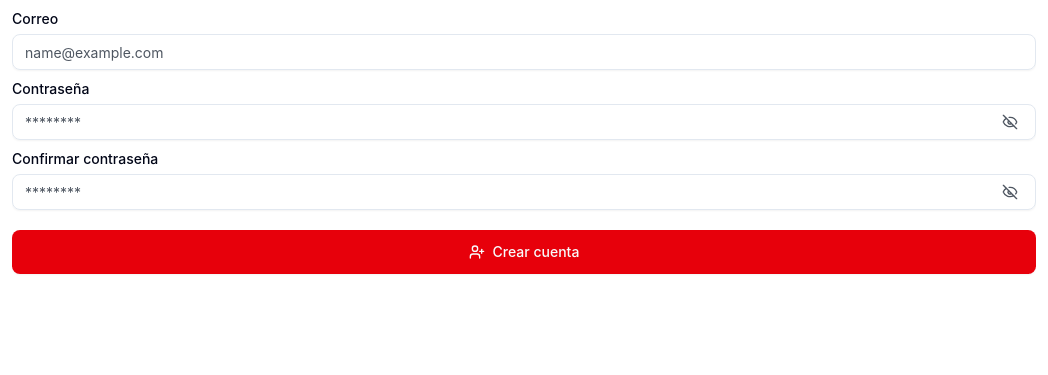
SignUpForm › shows validation messages when submitting empty form
Step 1. Click the button "Crear cuenta" → [524, 252], box left=12, top=230, right=1036, bottom=274
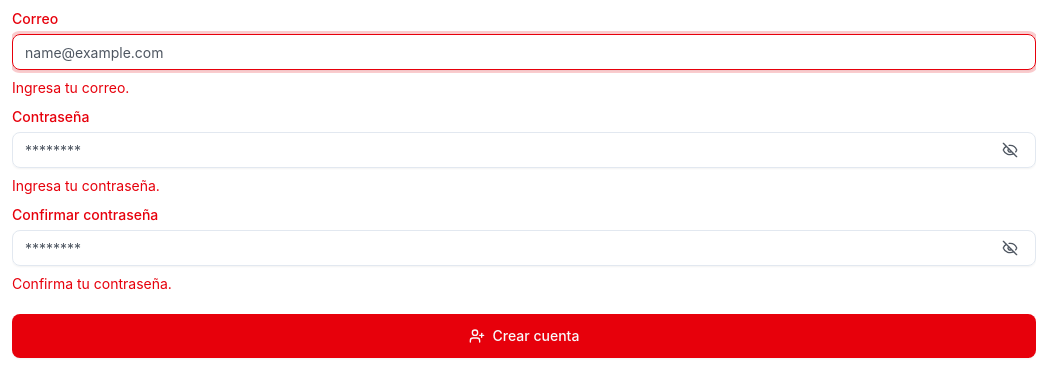
Check: the text "Ingresa tu correo." is shown, box left=12, top=79, right=129, bottom=96
